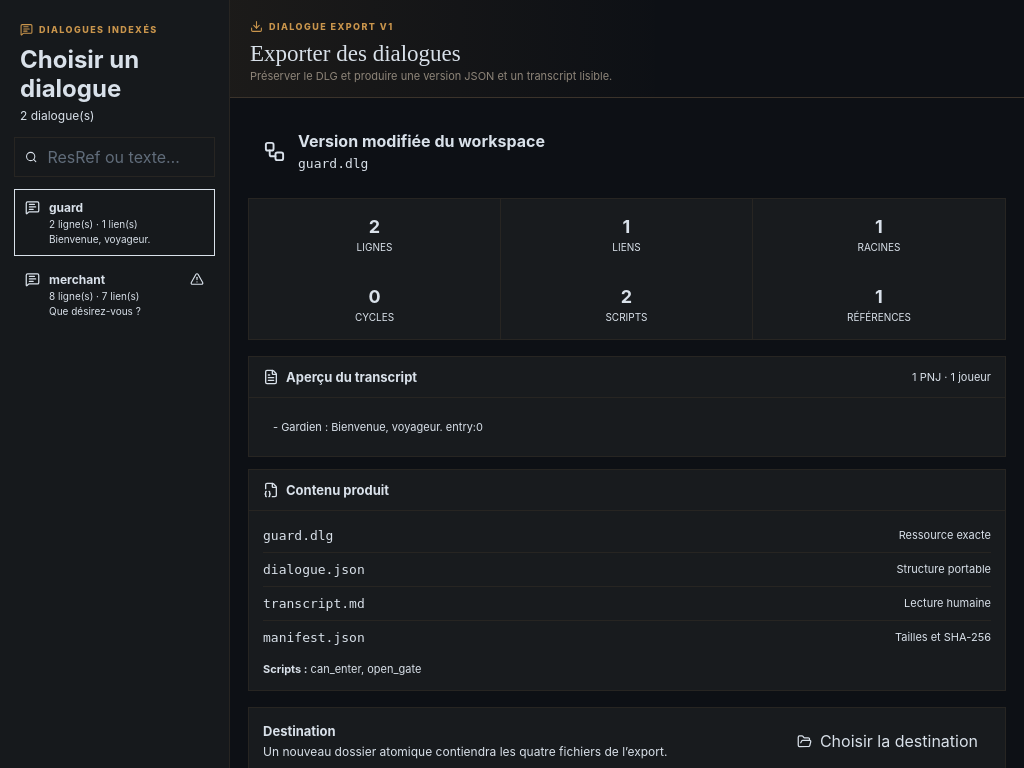
DialogueExportWorkspace › exports only after destination and local-only acknowledgement
Expected: the text "Version modifiée du workspace" is shown, [298,131,545,151]
Click the button "Choisir la destination" at (887, 741), box [784,722,991,760]
(page scrolled)
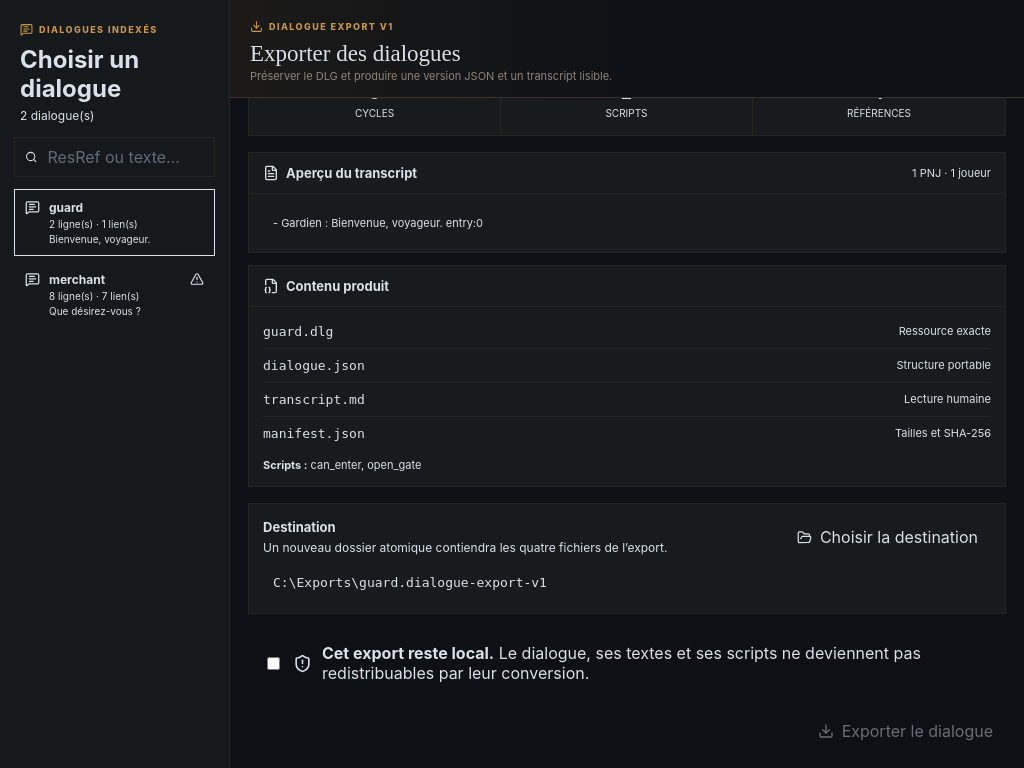
Expected: the text "C:\\Exports\\guard.dialogue-export-v1" is shown, [273,575,547,590]
Click the checkbox labelled "Cet export reste local" at (274, 663), box [267,656,280,670]
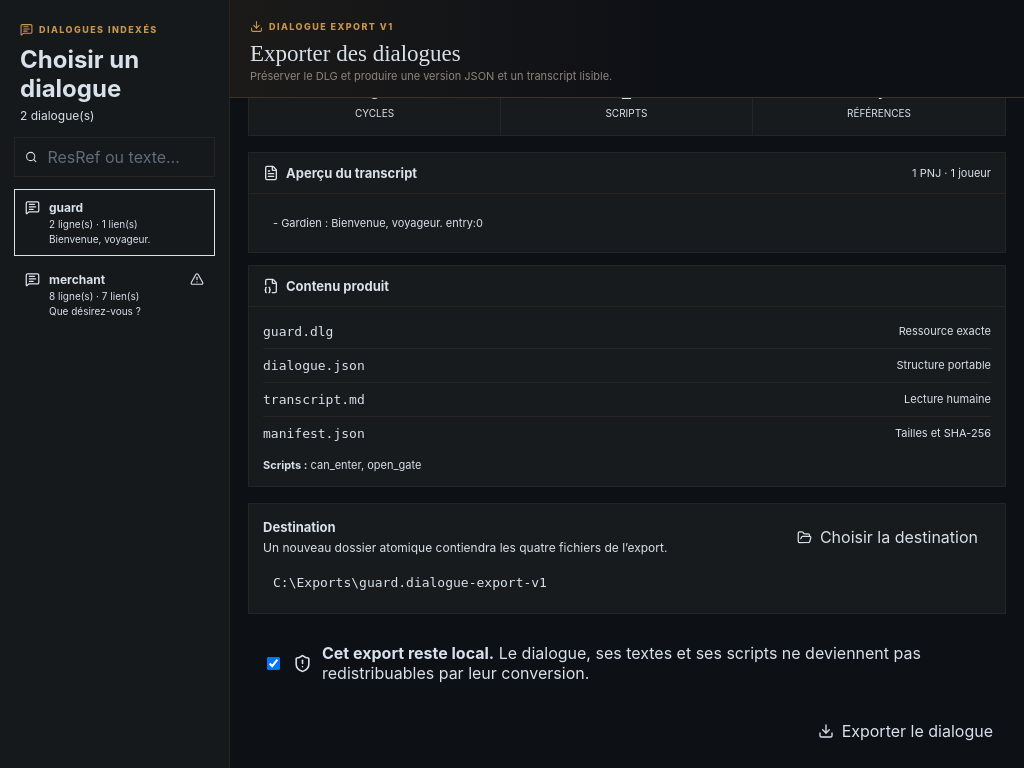
Expected: the button "Exporter le dialogue" is enabled
Click the button "Exporter le dialogue" at (905, 731), box [805,712,1006,750]
(page scrolled)
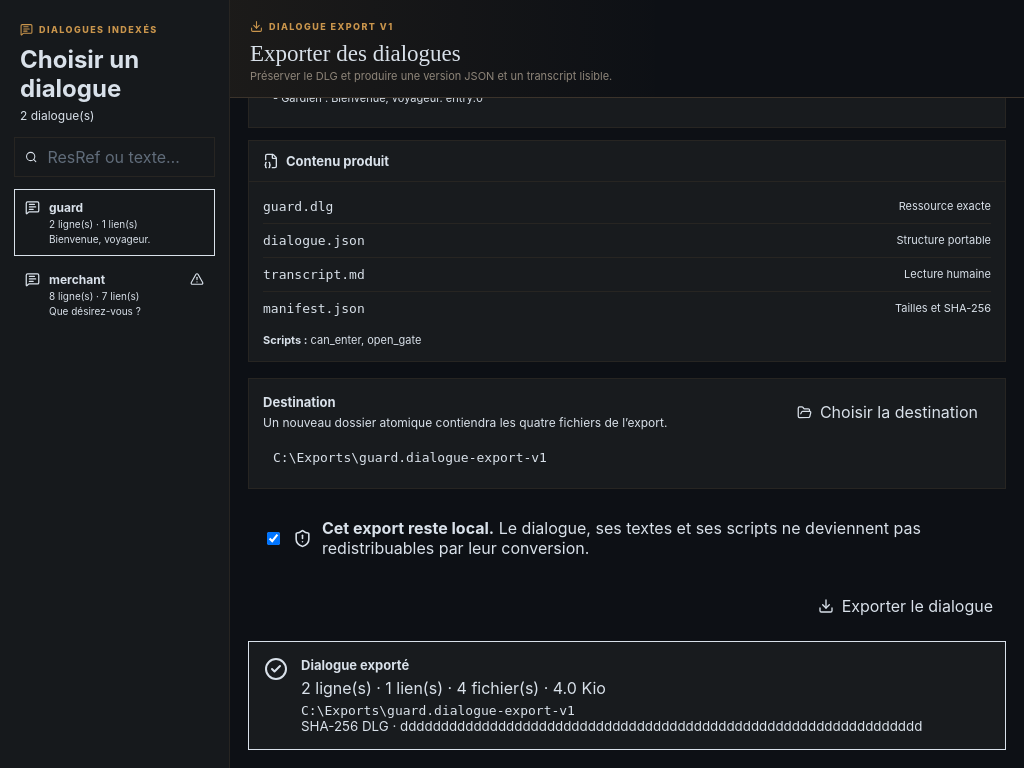
Expected: the element named "Résultat de l’export de dialogue" shows "4 fichier(s)", [301,678,606,698]
